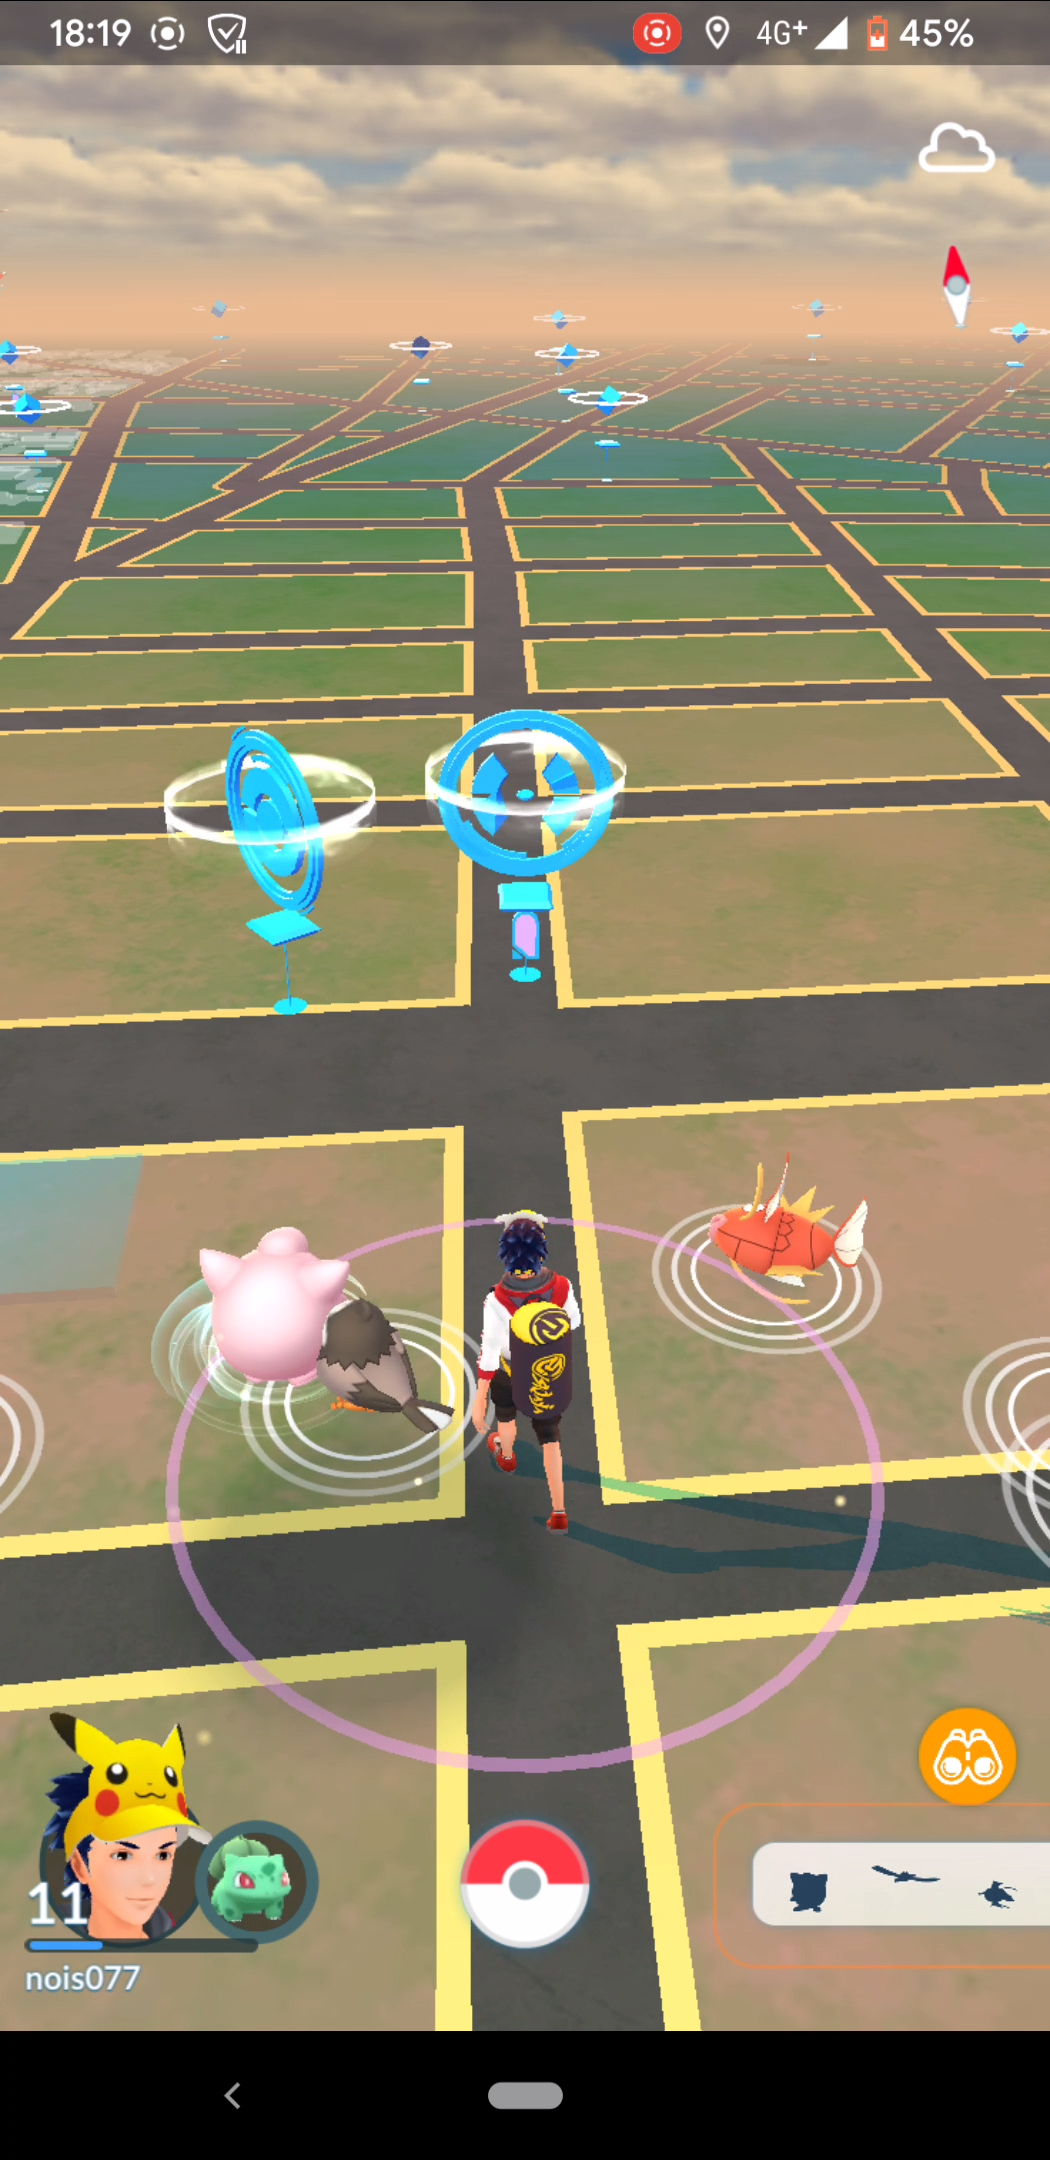pokestop: (433, 703, 623, 887), (214, 718, 338, 917)
